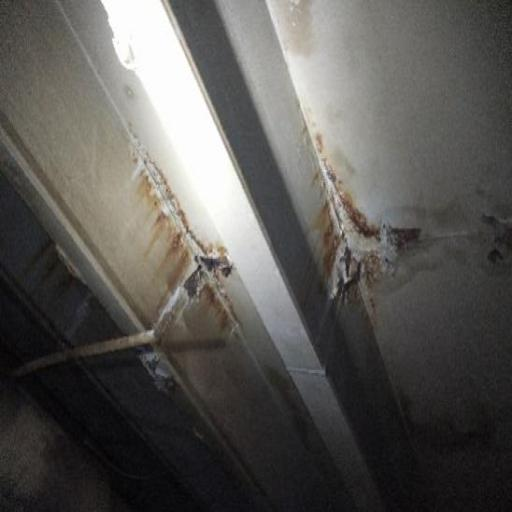Detect-rust-on-metal-surfaces: (287, 110, 511, 334), (119, 139, 256, 403)
